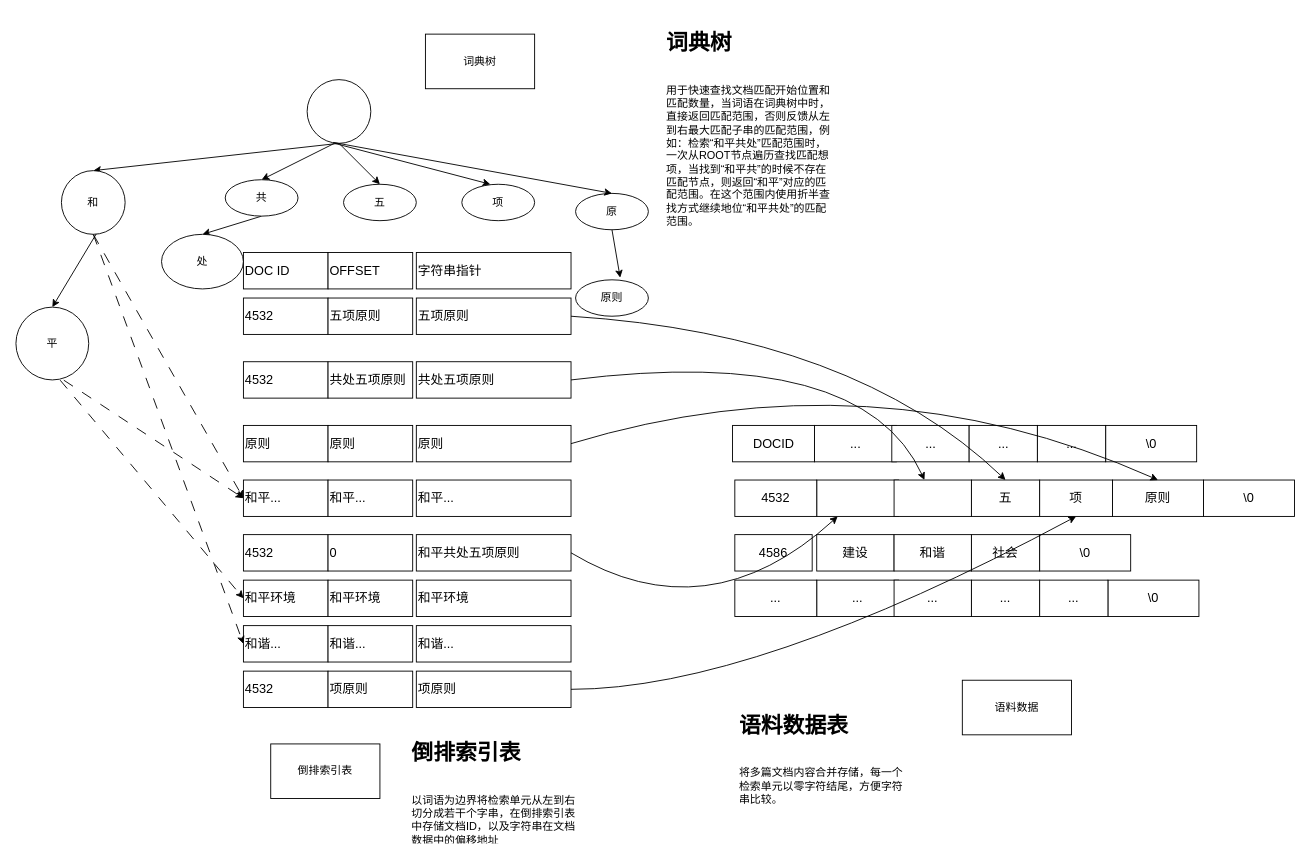
This 1310x861 diagram has some shape labels left out. The centre of each missing label's shape, as x and y in pixels:
"ROOT" goes at point (338, 111).
"共处" goes at point (932, 497).
"和平" goes at point (857, 497).
